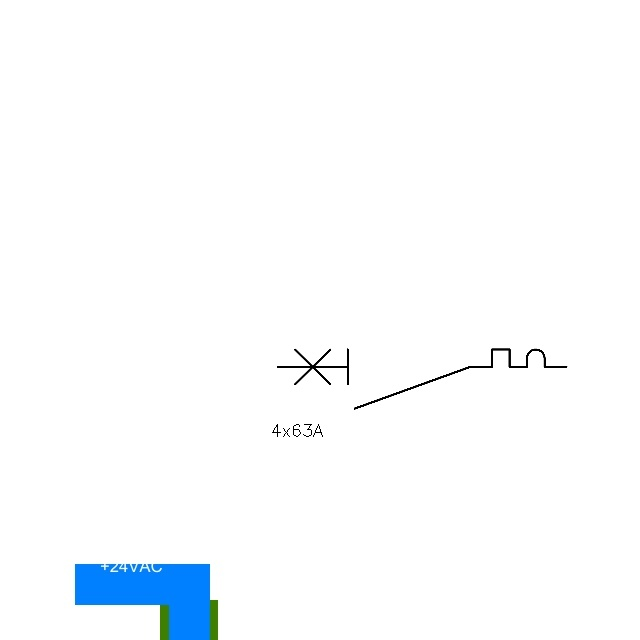interruptor_termomagnetico: (270, 342, 574, 416)
